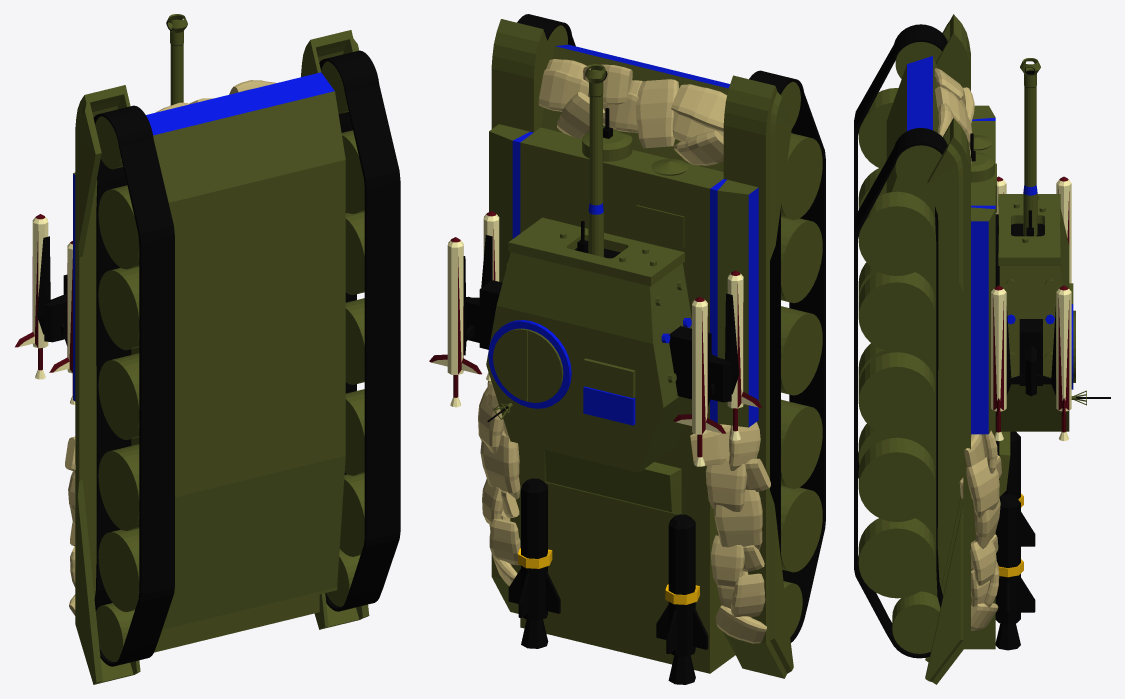
The model's file is MKXAM.fbx.
The picture shows the model from 3 angles, left to right: view 1: azimuth 30°, elevation 25°; view 2: azimuth 150°, elevation 25°; view 3: azimuth 270°, elevation 25°; orthographic projection. The views are drawn at different scales.
Parts seen in each view (by area): view 1: 1TankBase, Wheel, Rocket Lancher, Rocket1, Additionat Armor, Rocket3, QF75Gun; view 2: 1TankBase, Additionat Armor, 0Turret, Wheel, Thur, GunSheld, Rocket Lancher, Cover, GunnerCover, Rocket2, Rocket1, QF75Gun (+4 smaller); view 3: Wheel, 1TankBase, 0Turret, Additionat Armor, Thur, GunSheld, Rocket Lancher, Rocket2, Rocket4, QF75Gun, Rocket1, QF75GunSur.
Part boxes in pixels (x1,y1,x2,y2): 1TankBase: (73, 30, 369, 684); Wheel: (93, 50, 400, 666); Rocket Lancher: (37, 236, 67, 345); Rocket1: (15, 214, 48, 379); Additionat Armor: (65, 80, 276, 615); Rocket3: (49, 241, 75, 404); QF75Gun: (170, 28, 183, 105); 1TankBase: (489, 19, 793, 678); Additionat Armor: (478, 59, 770, 643); 0Turret: (486, 248, 691, 472); Wheel: (517, 14, 825, 642); Thur: (508, 478, 708, 684); GunSheld: (508, 217, 684, 286); Rocket Lancher: (463, 235, 739, 406); Cover: (493, 328, 563, 402); GunnerCover: (583, 358, 635, 425); Rocket2: (429, 237, 481, 407); Rocket1: (673, 296, 726, 466); QF75Gun: (588, 79, 603, 257); Wheel: (854, 24, 947, 658); 1TankBase: (886, 14, 1010, 684); 0Turret: (995, 209, 1069, 431); Additionat Armor: (934, 68, 1001, 630); Thur: (995, 431, 1035, 650); GunSheld: (998, 194, 1060, 265); Rocket Lancher: (1006, 306, 1055, 396); Rocket2: (1056, 285, 1071, 440); Rocket4: (991, 285, 1006, 441); QF75Gun: (1023, 70, 1037, 236); Rocket1: (1056, 176, 1071, 283); QF75GunSur: (1020, 58, 1040, 87).
Bounding box in the file's own units: 2828 × 5589 × 2312.
